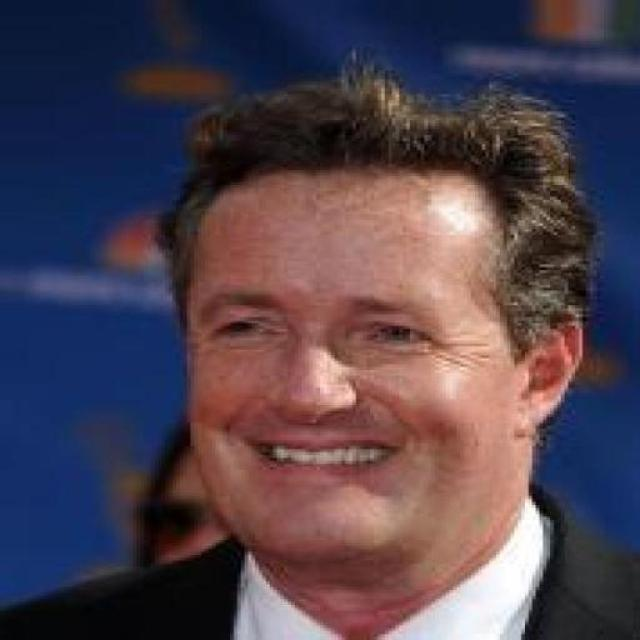bareface: (176, 185, 559, 573)
